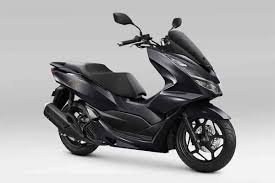motor: (26, 6, 238, 174)
